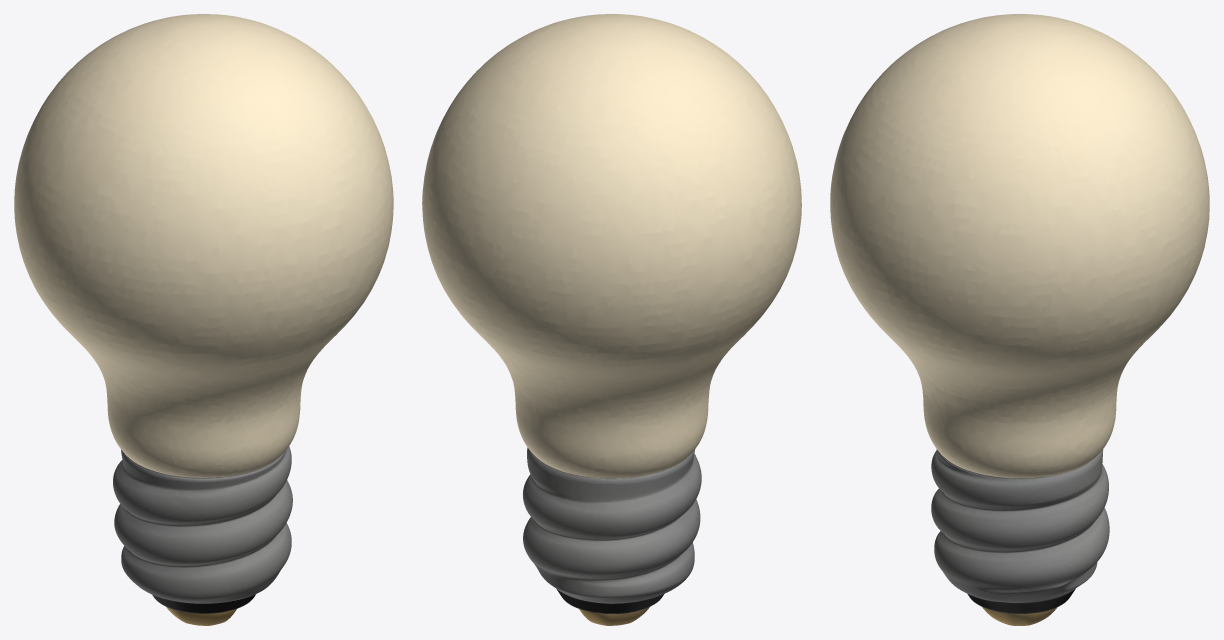
The model's file is lightbulb.glb.
3 views of the same model, side by side, from view 1: azimuth 30°, elevation 25°; view 2: azimuth 150°, elevation 25°; view 3: azimuth 270°, elevation 25° (orthographic).
Size of the model in its own units: 1.11 by 1.9 by 1.11.
1 material, 1 textured.
